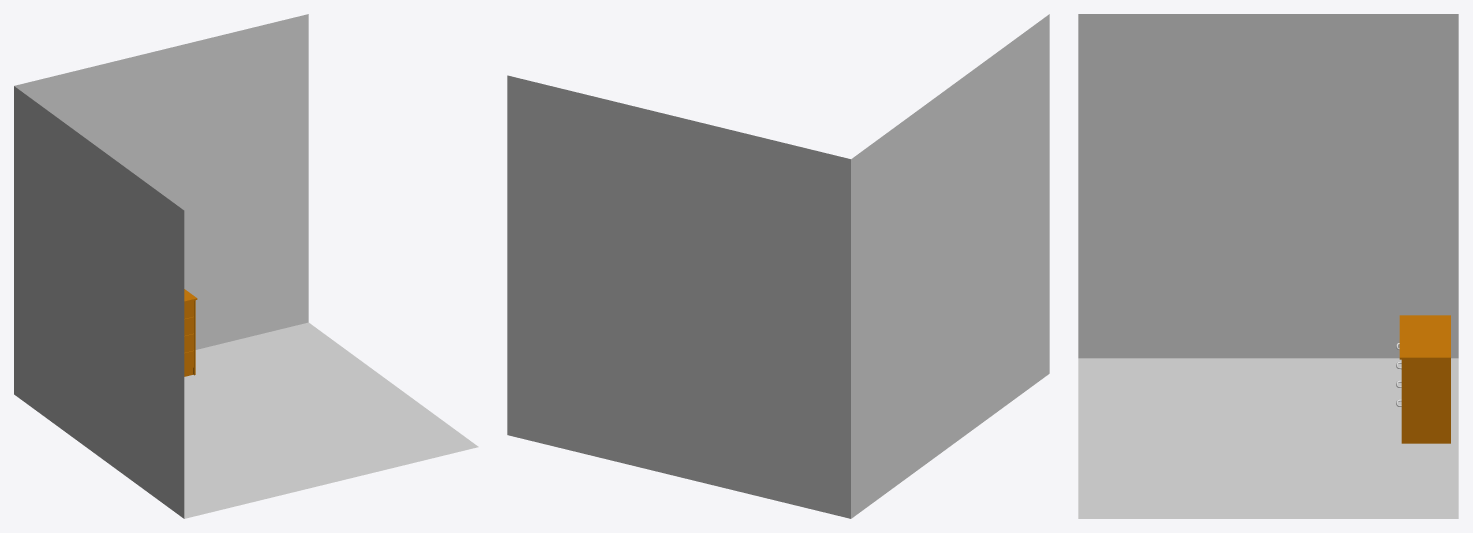
The model's file is Drawers.fbx.
3 views of the same model, side by side, from view 1: azimuth 30°, elevation 25°; view 2: azimuth 150°, elevation 25°; view 3: azimuth 270°, elevation 25° (orthographic). The views are drawn at different scales.
Visible parts, largest first — view 1: Cube.005; view 2: Cube.005; view 3: Cube.005, Cube.001.
Part boxes in pixels (<box>): Cube.005: <box>14,14,478,518</box>; Cube.005: <box>507,14,1049,518</box>; Cube.005: <box>1078,14,1458,518</box>; Cube.001: <box>1399,315,1450,443</box>.
Size of the model in its own units: 40 by 40 by 40.
